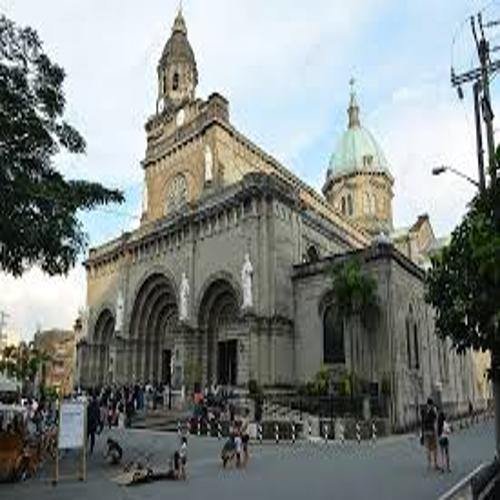Manila Cathedral Church: (69, 1, 450, 451)
